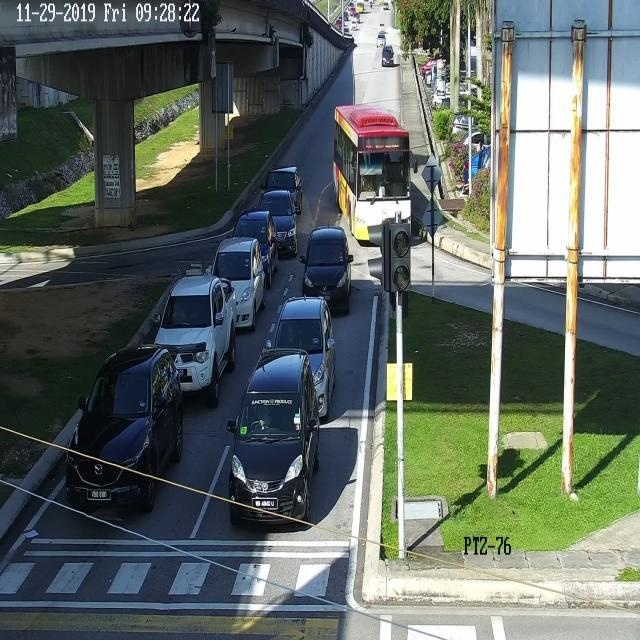Bus: (319, 94, 433, 256)
